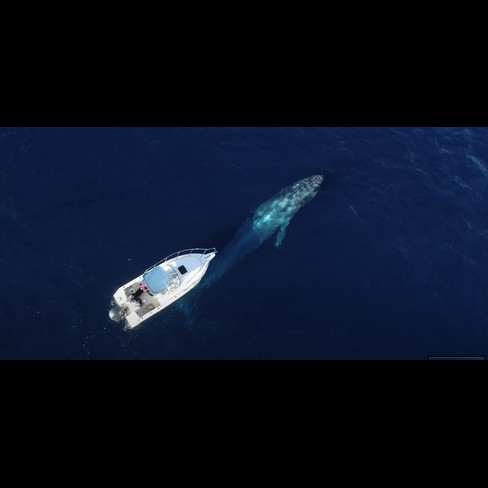bluewhale: (167, 169, 329, 331)
boat: (105, 242, 219, 335)
